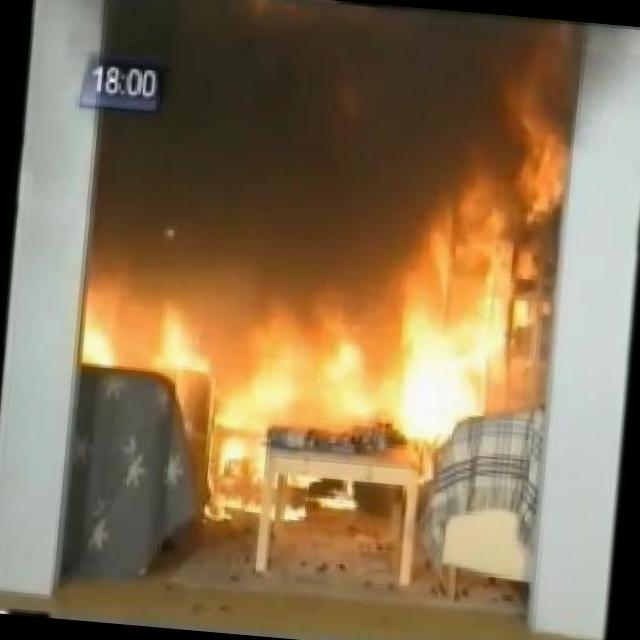fire: (89, 238, 564, 429)
smoke: (107, 0, 578, 269)
